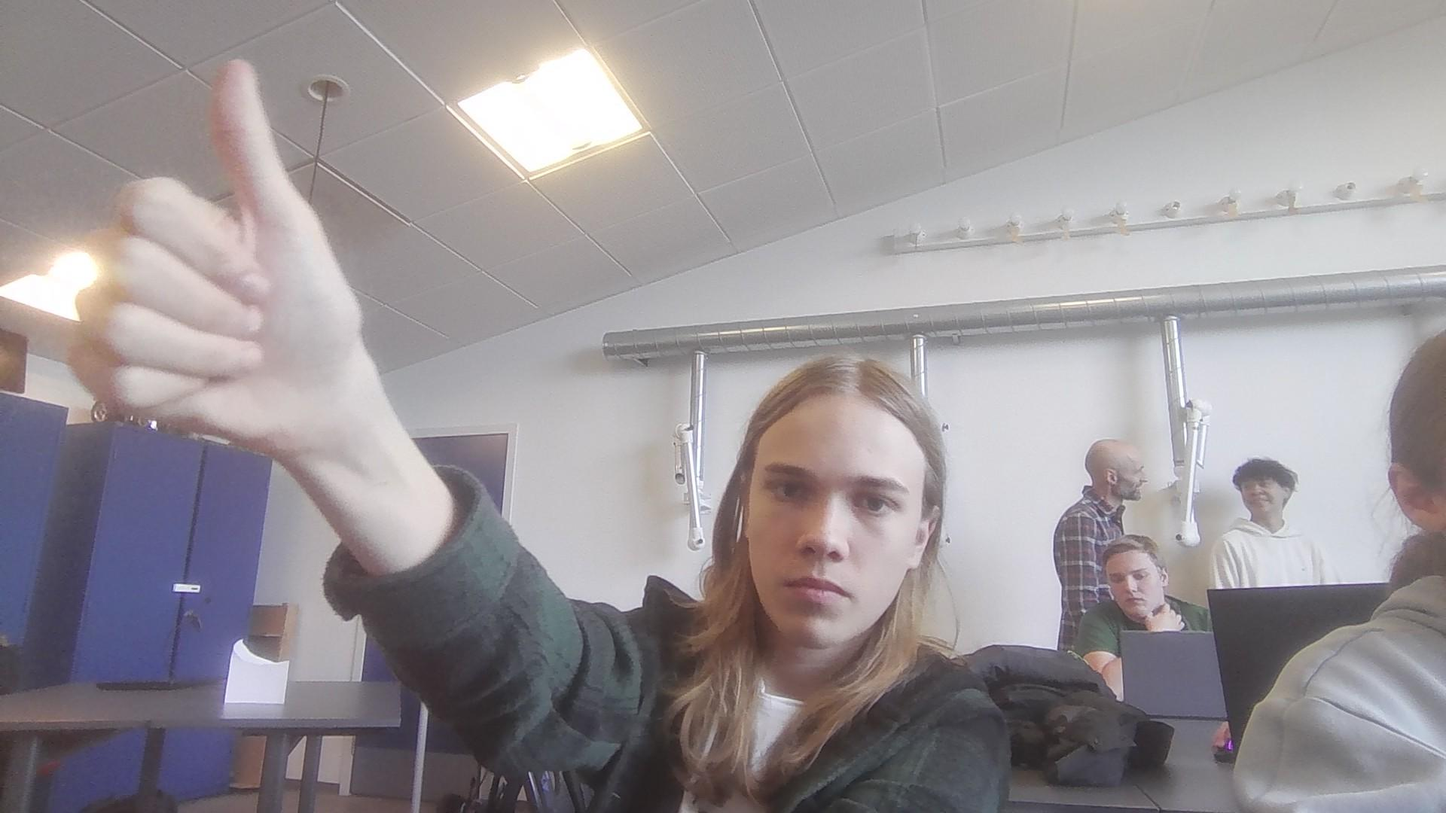thumbs up: (95, 48, 390, 471)
